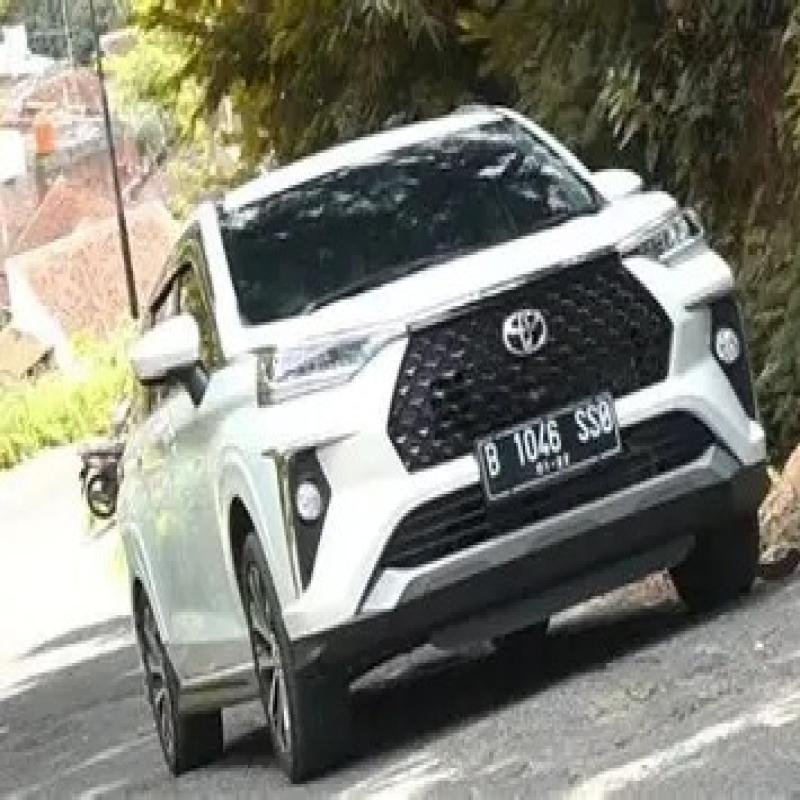license plate on a car: (478, 389, 644, 518)
